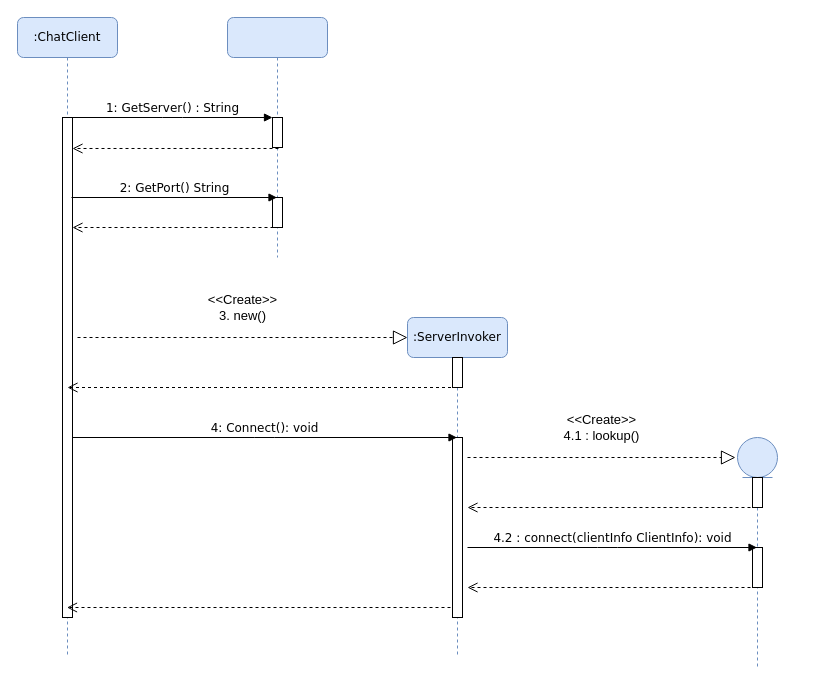
Image size: 832x685. Some labels were removed from this diagram. The shapes that lost their labels are listed below. From the top down, each one's box as (x1, y1, x2, y2) in pixels, then its label:
(226, 16, 328, 258): :ClientConfig
(736, 436, 778, 668): :ServerOperations
